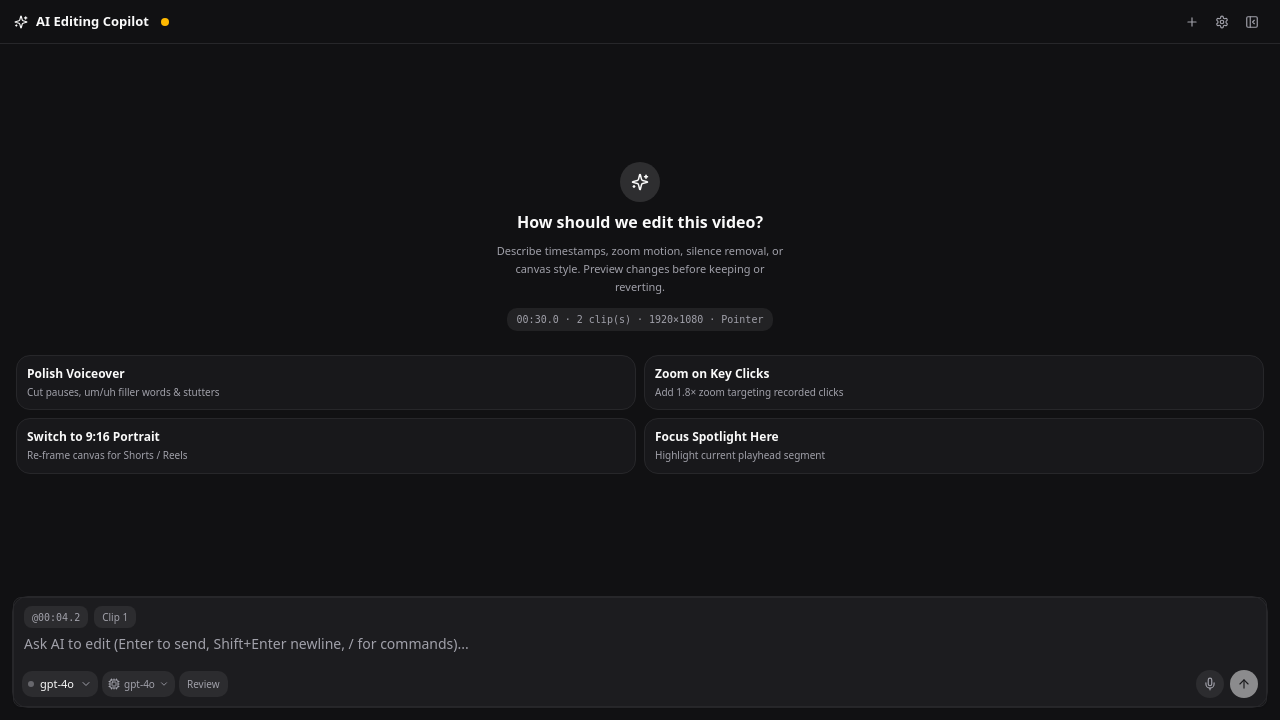
Test: FrameTrail AI Copilot UI › supports SlashCommandPalette filtering and ArrowUp/ArrowDown/Enter/Escape keyboard navigation
Type "/" into the text box with placeholder "Ask AI to edit" at (640,648), box [14,628,1266,668]
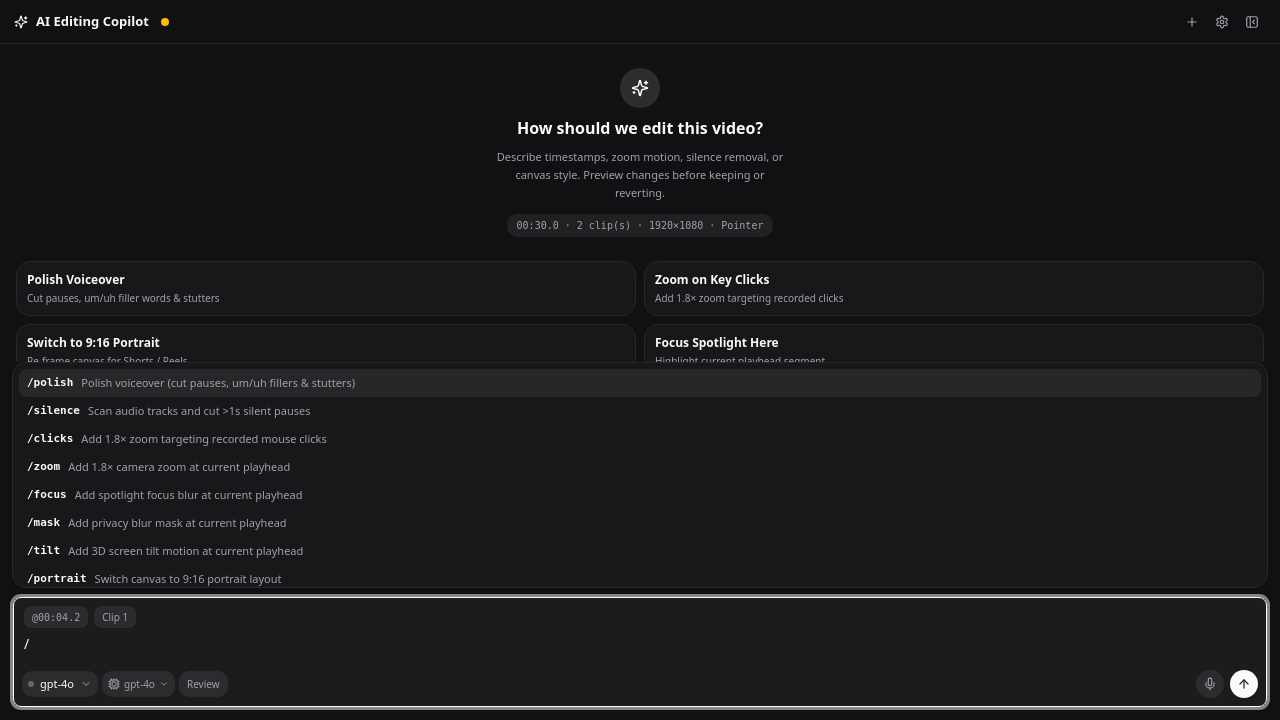
Now the element with test id "slash-command-palette" is shown, box [12,362,1268,588]
Now the text "/polish" is shown, box [27,375,73,391]
Now the text "/silence" is shown, box [27,403,80,419]
Press ArrowDown in the text box with placeholder "Ask AI to edit", box [14,628,1266,668]
Press ArrowDown in the text box with placeholder "Ask AI to edit", box [14,628,1266,668]
Press ArrowUp in the text box with placeholder "Ask AI to edit", box [14,628,1266,668]
# Filter to /zoom
Type "zoom" into the text box with placeholder "Ask AI to edit" at (640,648), box [14,628,1266,668]
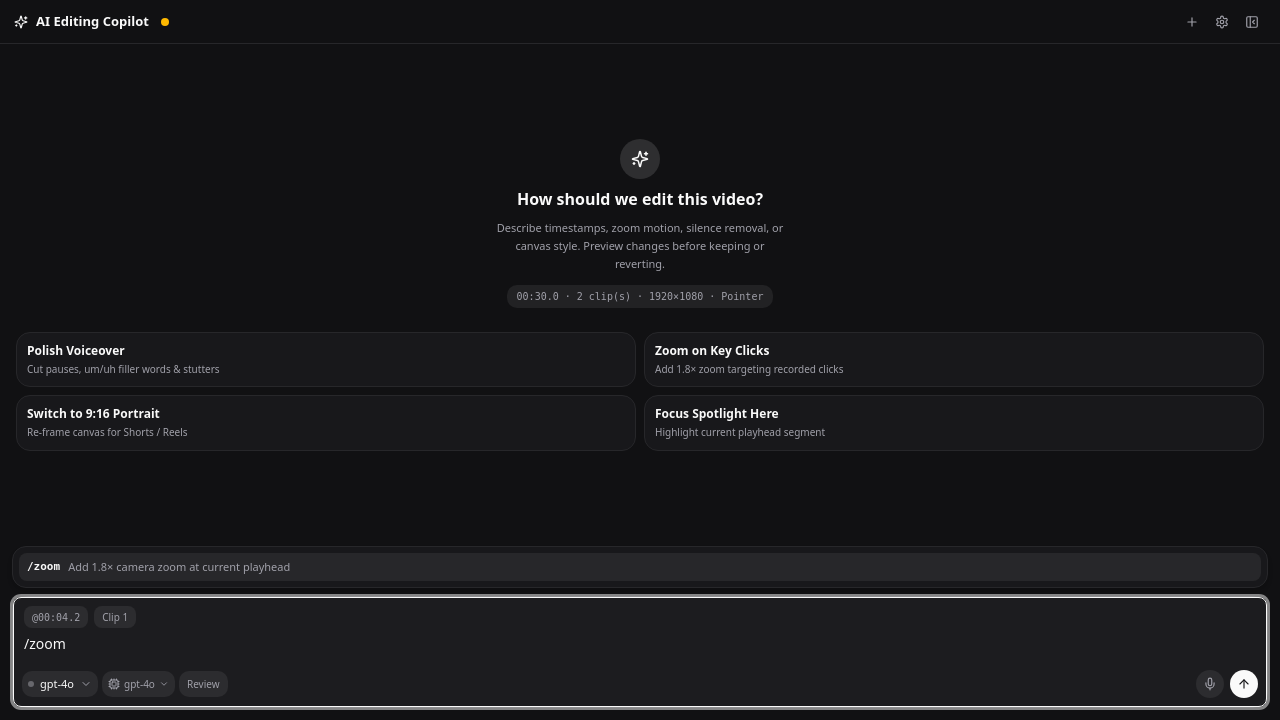
Now the text "/zoom" is shown, box [27,559,60,575]
Now the option "/silence" is gone
# Press Enter to expand template into textarea
Press Enter in the text box with placeholder "Ask AI to edit", box [14,628,1266,668]
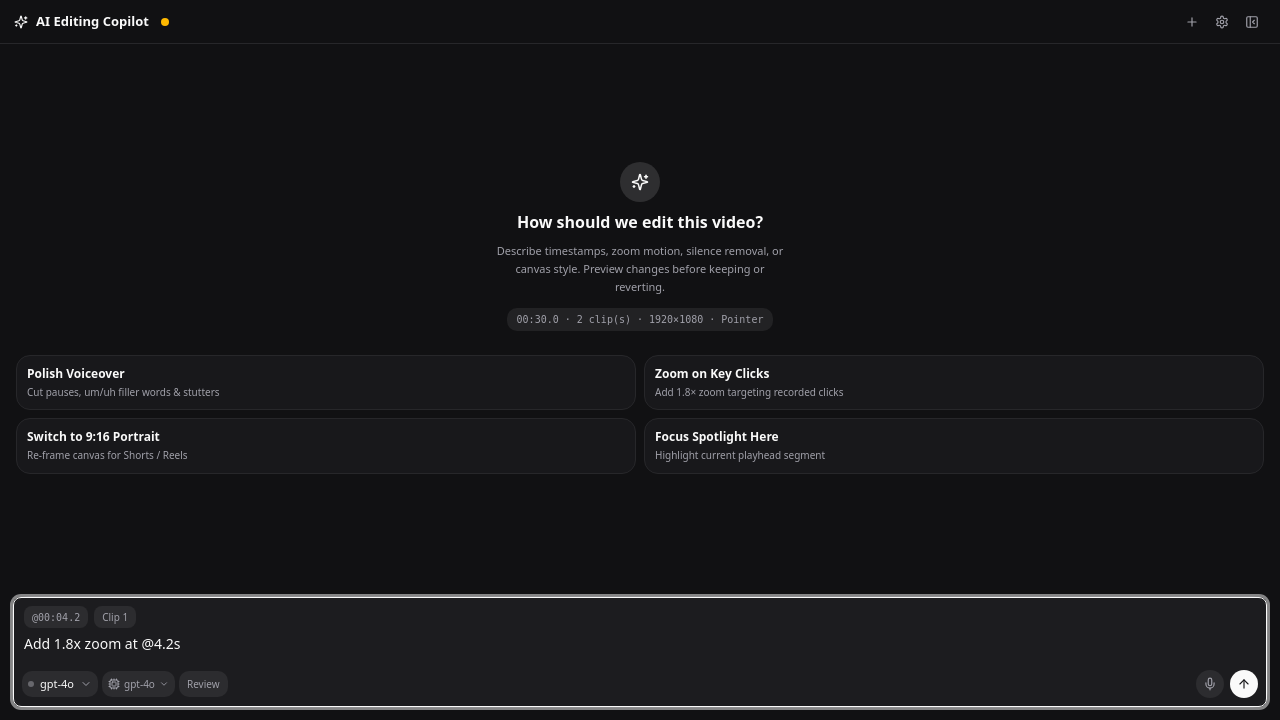
Now the text box with placeholder "Ask AI to edit" holds "Add 1.8x zoom at @4.2s"
Now the element with test id "slash-command-palette" is gone
# Re-open with / and dismiss with Escape
Replace the text in the text box with placeholder "Ask AI to edit" with "/" at (640,648), box [14,628,1266,668]
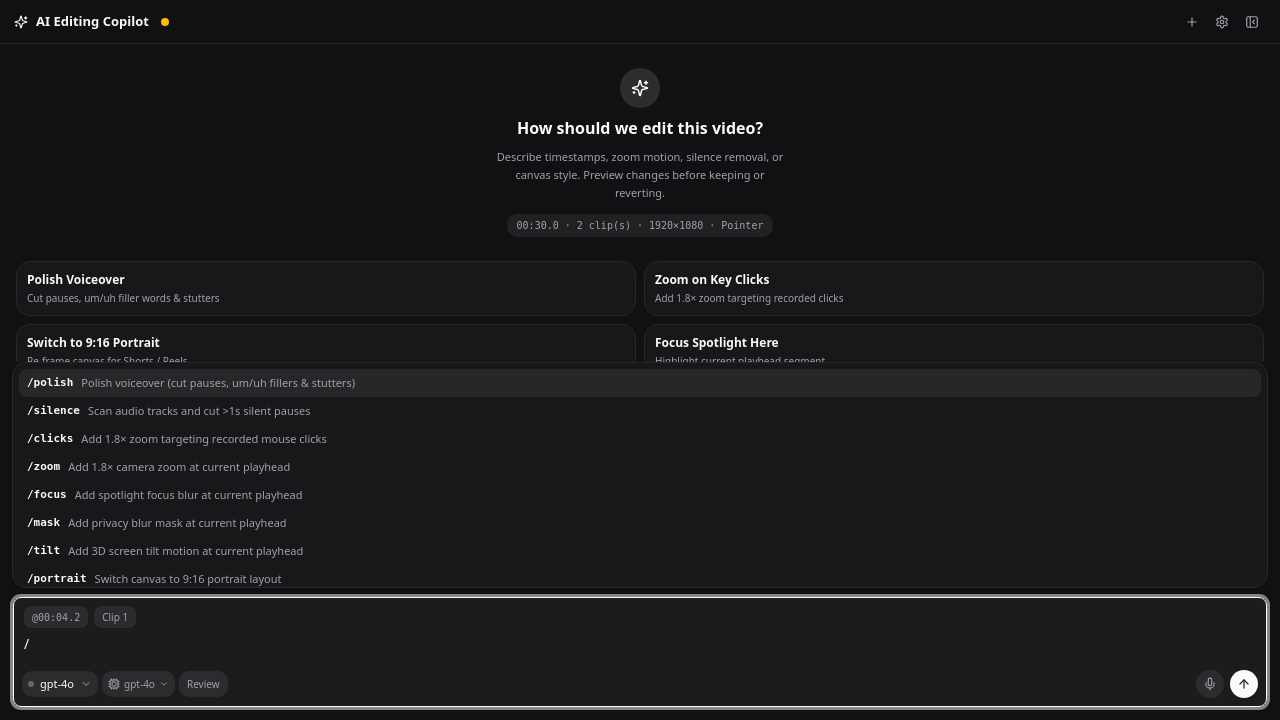
Now the element with test id "slash-command-palette" is shown, box [12,362,1268,588]
Press Escape in the text box with placeholder "Ask AI to edit", box [14,628,1266,668]
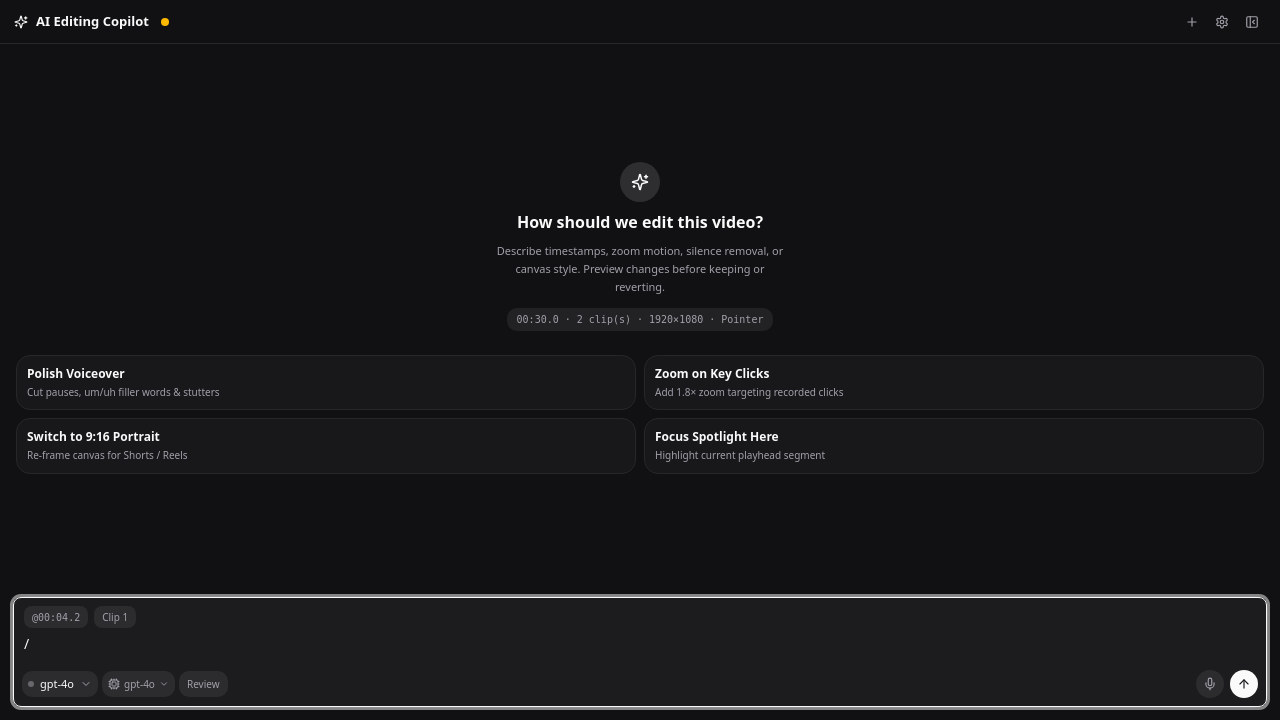
Now the element with test id "slash-command-palette" is gone
